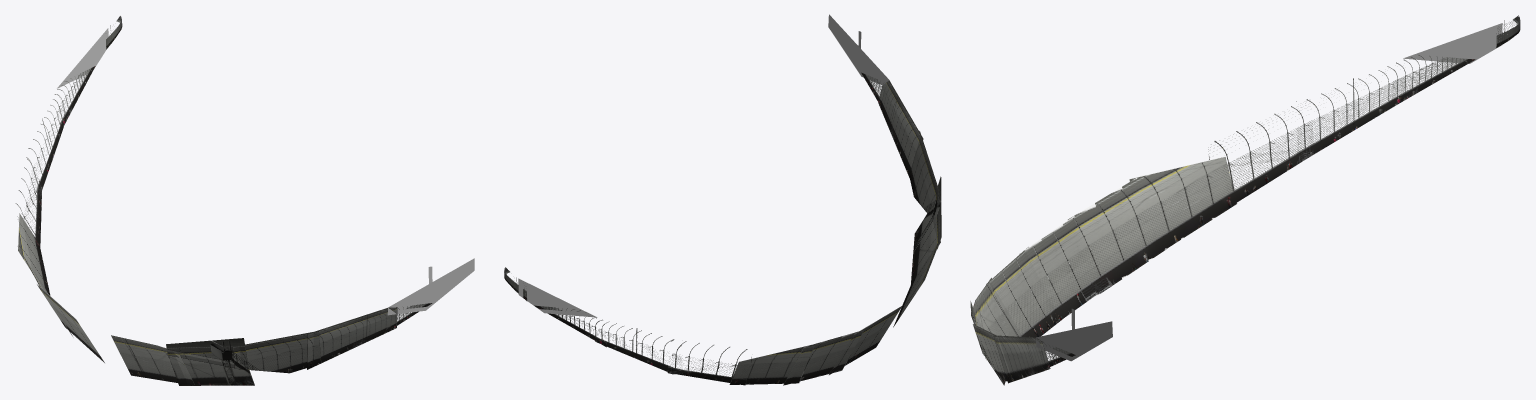
File: Alpha_FL.FBX
3 renders of one model, left to right at view 1: azimuth 30°, elevation 25°; view 2: azimuth 150°, elevation 25°; view 3: azimuth 330°, elevation 25°, orthographic. The views are drawn at different scales.
Visible parts, largest first — view 1: FL_1_11, FL_1_10, FL_0_8, FL_0_9, FL_2_12, FL_1_9, FL_0_4, FL_2_1, FL_0_6, FL_1_2, FL_1_1, FL_0_3; view 2: FL_0_4, FL_1_11, FL_0_5, FL_1_10, FL_2_12, FL_0_6, FL_2_1, FL_0_9, FL_1_2, FL_1_1, FL_0_8, FL_0_3 (+1 smaller); view 3: FL_0_4, FL_0_5, FL_0_6, FL_0_7, FL_1_2, FL_0_3, FL_1_11, FL_2_12, FL_2_1, FL_0_8, FL_1_1, FL_1_3 (+1 smaller).
Boxes of the visible parts, <box> form: FL_1_11: <box>307,307,397,369</box>; FL_1_10: <box>233,331,321,373</box>; FL_0_8: <box>111,335,195,385</box>; FL_0_9: <box>166,349,254,385</box>; FL_2_12: <box>387,258,474,315</box>; FL_1_9: <box>166,338,248,370</box>; FL_0_4: <box>18,213,50,295</box>; FL_2_1: <box>57,28,108,88</box>; FL_0_6: <box>37,284,104,362</box>; FL_1_2: <box>27,89,64,193</box>; FL_1_1: <box>54,66,95,124</box>; FL_0_3: <box>21,186,41,248</box>; FL_0_4: <box>729,344,815,384</box>; FL_1_11: <box>878,80,923,177</box>; FL_0_5: <box>783,330,863,385</box>; FL_1_10: <box>909,131,938,213</box>; FL_2_12: <box>828,14,889,85</box>; FL_0_6: <box>829,305,902,374</box>; FL_2_1: <box>518,278,597,317</box>; FL_0_9: <box>911,212,940,283</box>; FL_1_2: <box>595,318,681,374</box>; FL_1_1: <box>534,305,606,347</box>; FL_0_8: <box>893,241,939,327</box>; FL_0_3: <box>667,360,751,385</box>; FL_0_4: <box>1129,156,1237,252</box>; FL_0_5: <box>1067,174,1169,296</box>; FL_0_6: <box>1019,216,1104,319</box>; FL_0_7: <box>986,247,1061,337</box>; FL_1_2: <box>1296,59,1405,156</box>; FL_0_3: <box>1219,149,1310,208</box>; FL_1_11: <box>993,335,1050,383</box>; FL_2_12: <box>1036,308,1112,361</box>; FL_2_1: <box>1403,23,1502,63</box>; FL_0_8: <box>973,277,1022,336</box>; FL_1_1: <box>1392,55,1475,103</box>; FL_1_3: <box>1208,100,1313,167</box>.
Bounding box in the file's own units: 0.2533 × 0.176 × 0.6316.
